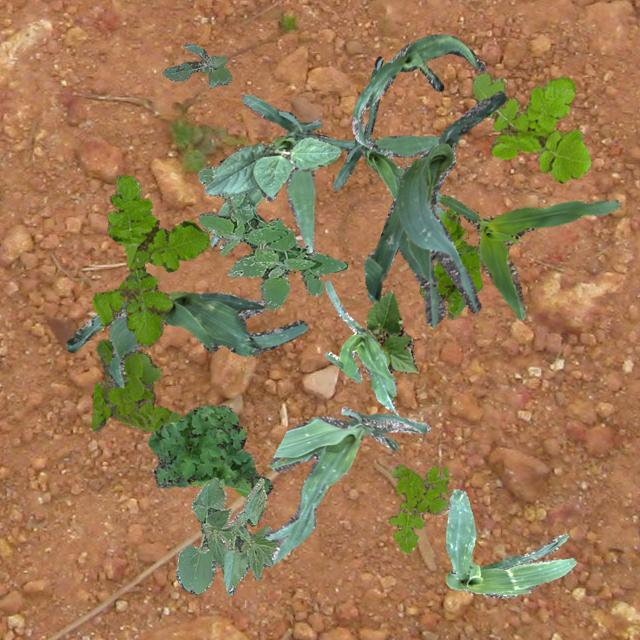crop: (362, 90, 506, 326), (264, 406, 430, 562), (65, 290, 308, 386), (210, 94, 354, 252), (438, 194, 620, 318), (332, 55, 444, 214), (350, 34, 484, 154), (444, 488, 576, 598), (175, 476, 276, 594), (324, 279, 396, 412), (202, 136, 340, 200), (365, 290, 417, 388)
weed: (196, 165, 346, 308), (92, 174, 208, 348), (91, 338, 223, 486), (470, 70, 590, 182), (148, 404, 272, 496), (418, 208, 482, 318), (388, 464, 448, 554), (162, 42, 230, 86)
